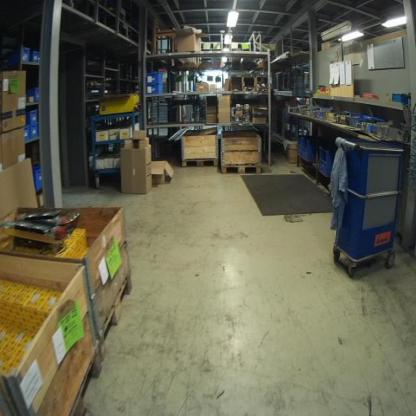pallet: (99, 267, 133, 363), (67, 347, 103, 416), (220, 162, 261, 176), (181, 156, 219, 169)
small_load_carrier: (315, 144, 334, 172), (9, 47, 32, 69), (301, 139, 318, 163), (30, 168, 43, 192), (145, 71, 165, 85), (295, 139, 306, 160), (22, 123, 32, 142), (145, 86, 162, 97), (31, 84, 42, 101), (31, 51, 42, 65), (30, 123, 39, 140), (27, 110, 40, 121)
